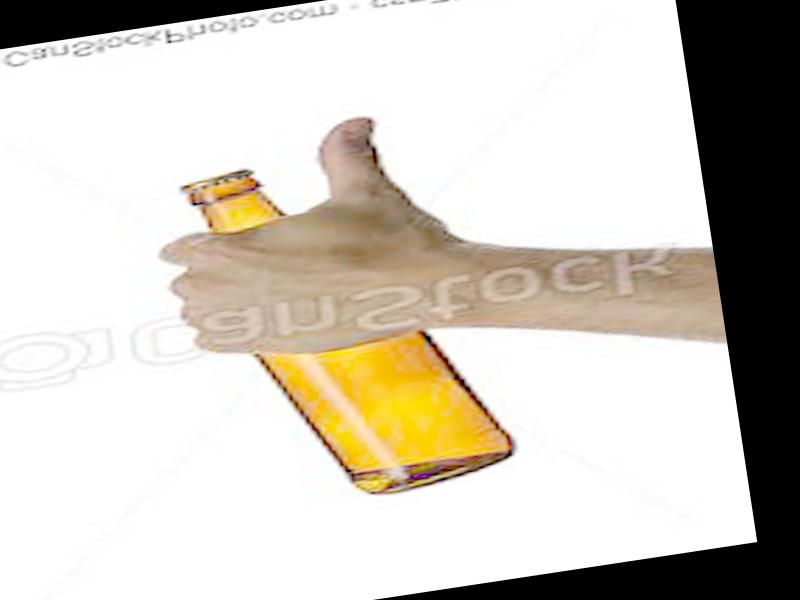Beer: (183, 137, 521, 516)
